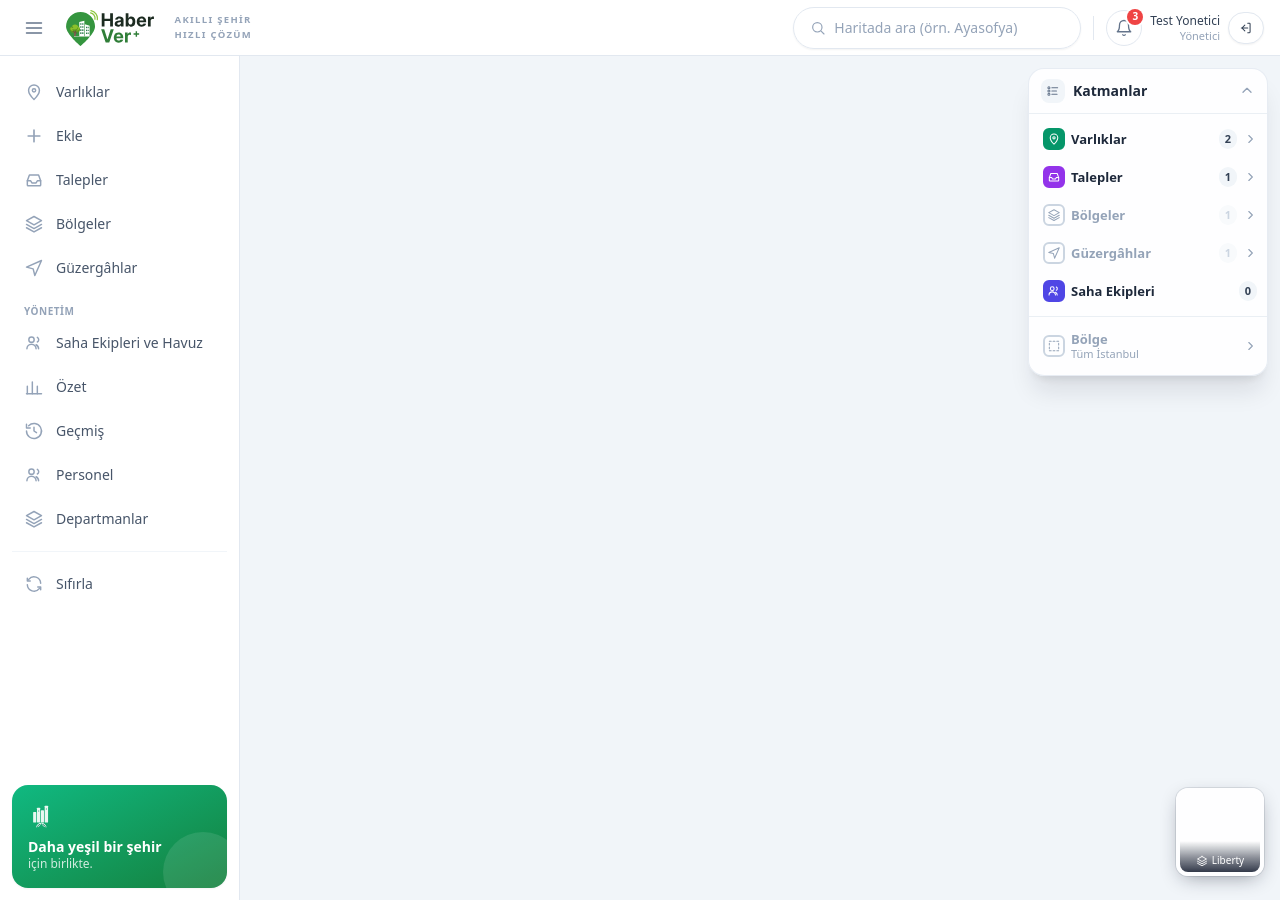
it: App - Bölgeler ve Güzergâhlar AYRI panellerdir › siralama secimi sekme basina HATIRLANIR, sizmaz
Click the button "Bölgeler". click: (120, 224)
box: [12,204,227,244]
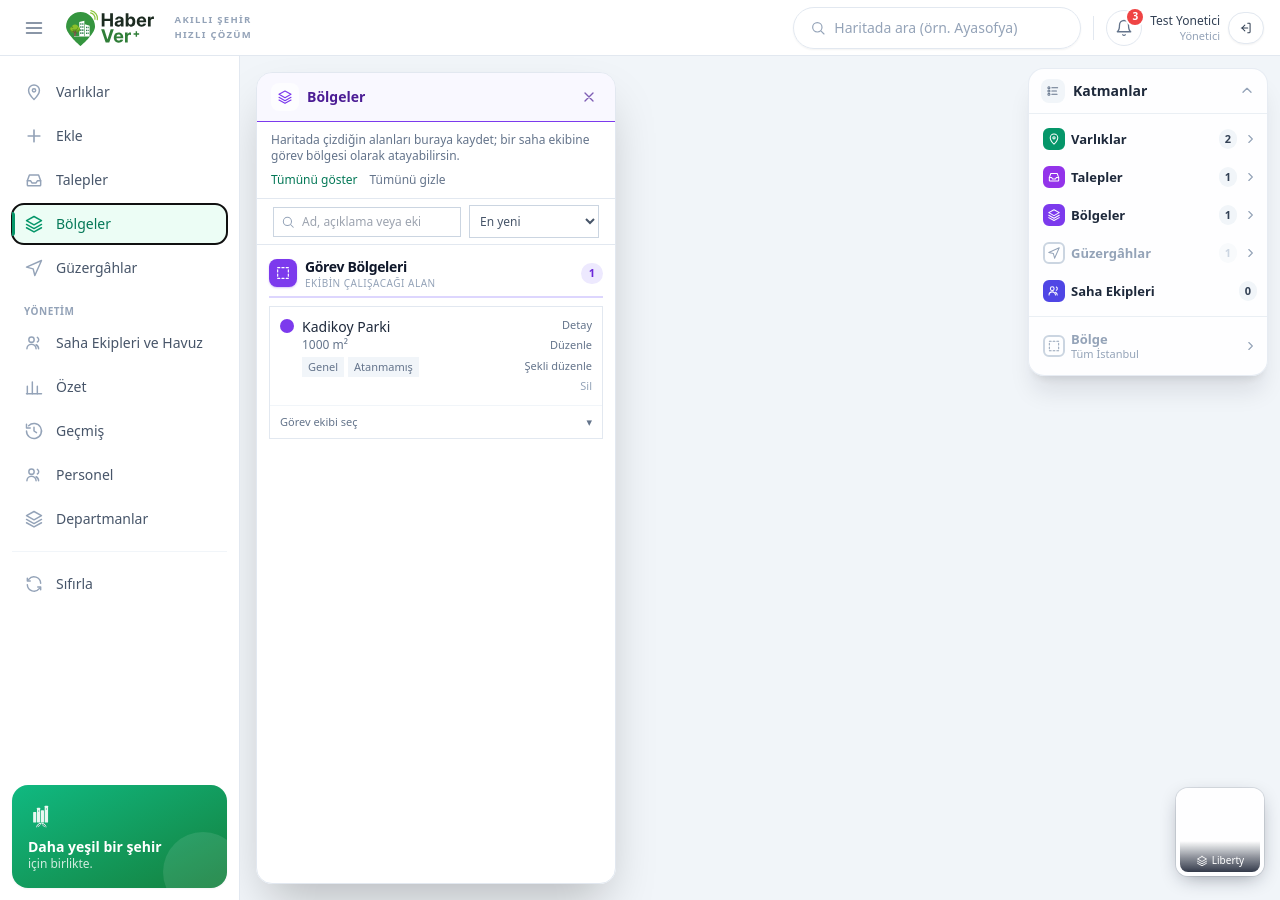
Expected: the text "Kadikoy Parki" is shown, [302,316,390,336]
Select "Ada göre (A-Z)" in the dropdown named "Sıralama". click: (534, 222)
box: [469,205,599,238]
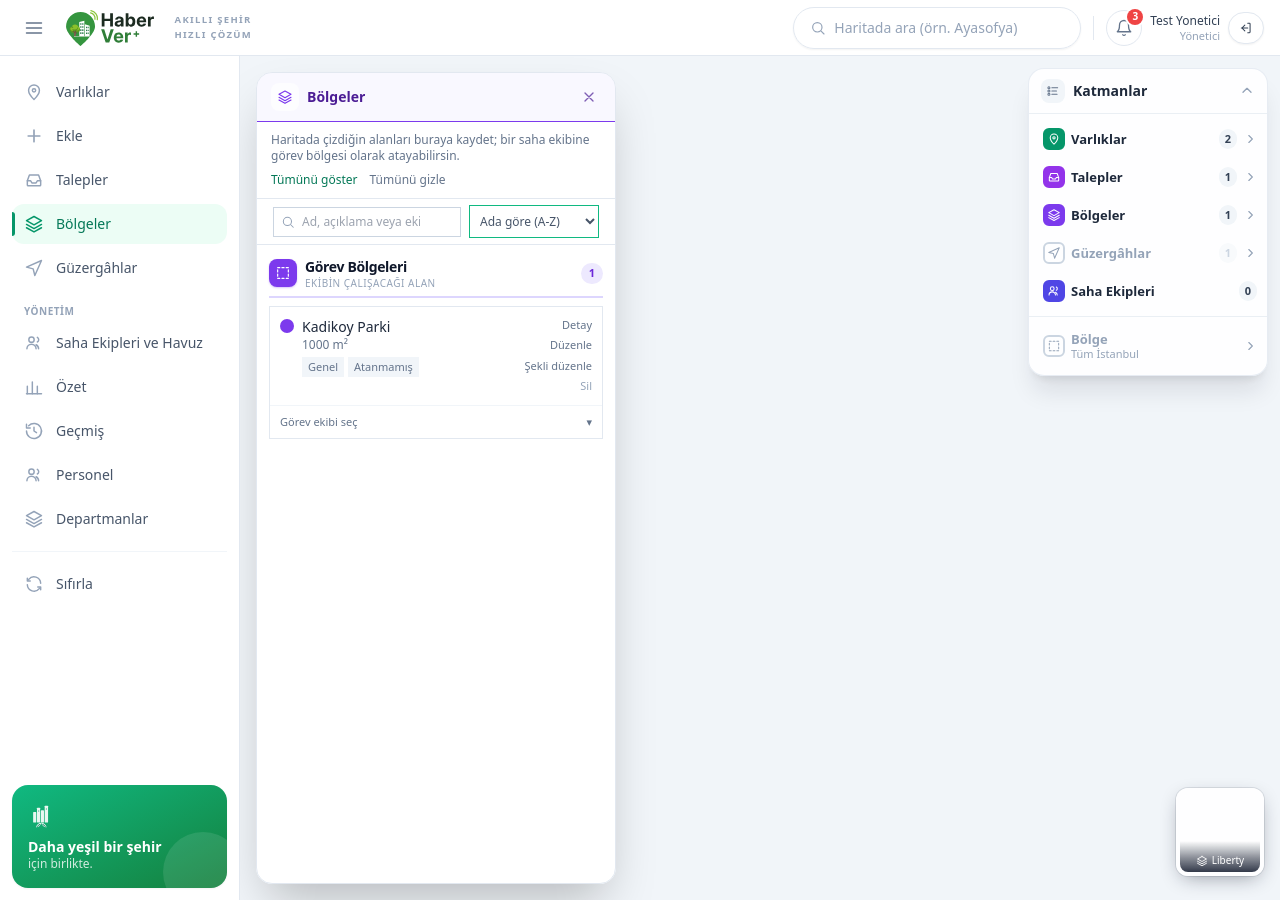
Click the button "Güzergâhlar". click: (120, 268)
box: [12,248,227,288]
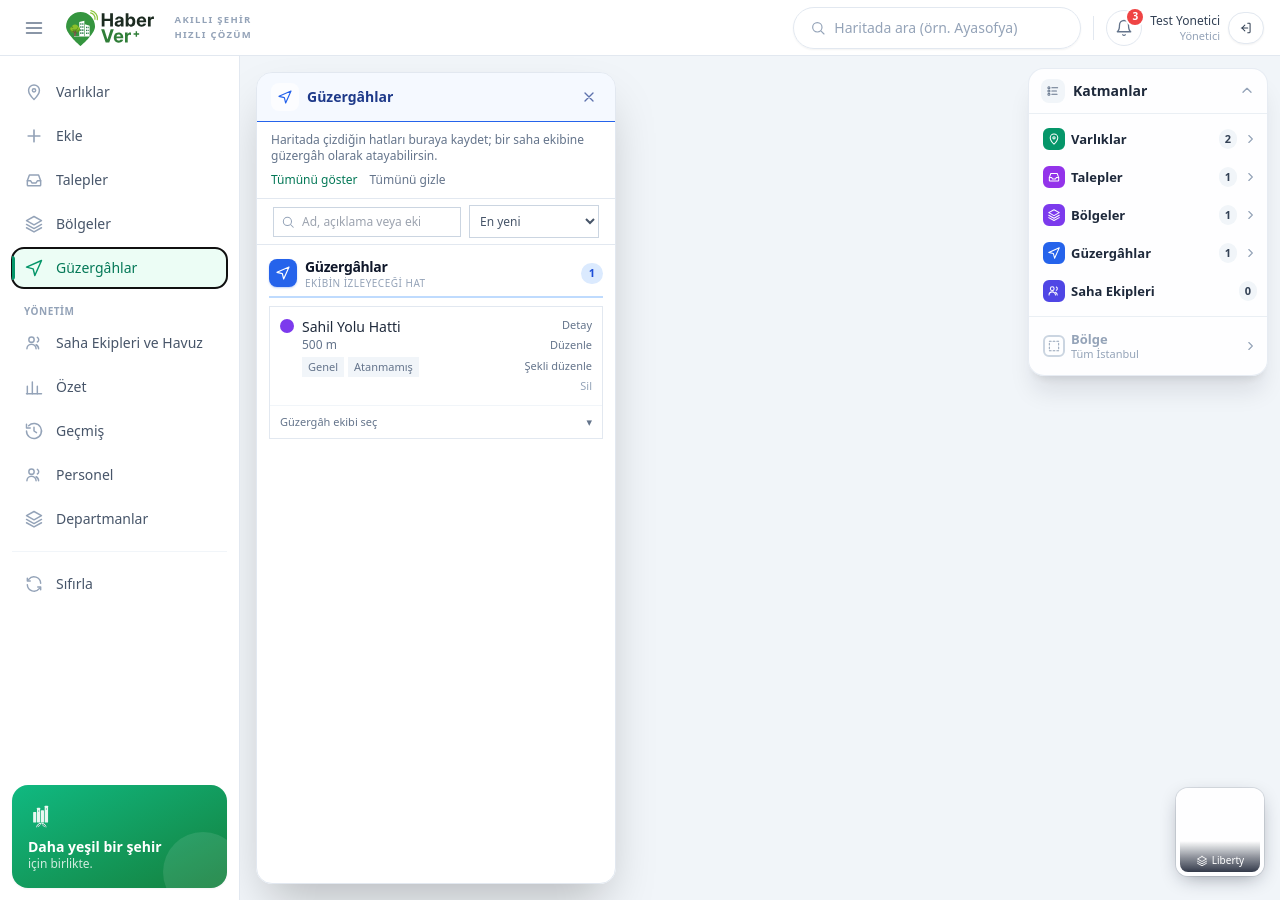
Expected: the text "Sahil Yolu Hatti" is shown, [302,316,401,336]
Select "Önce atanmamış" in the dropdown named "Sıralama". click: (534, 222)
box: [469,205,599,238]
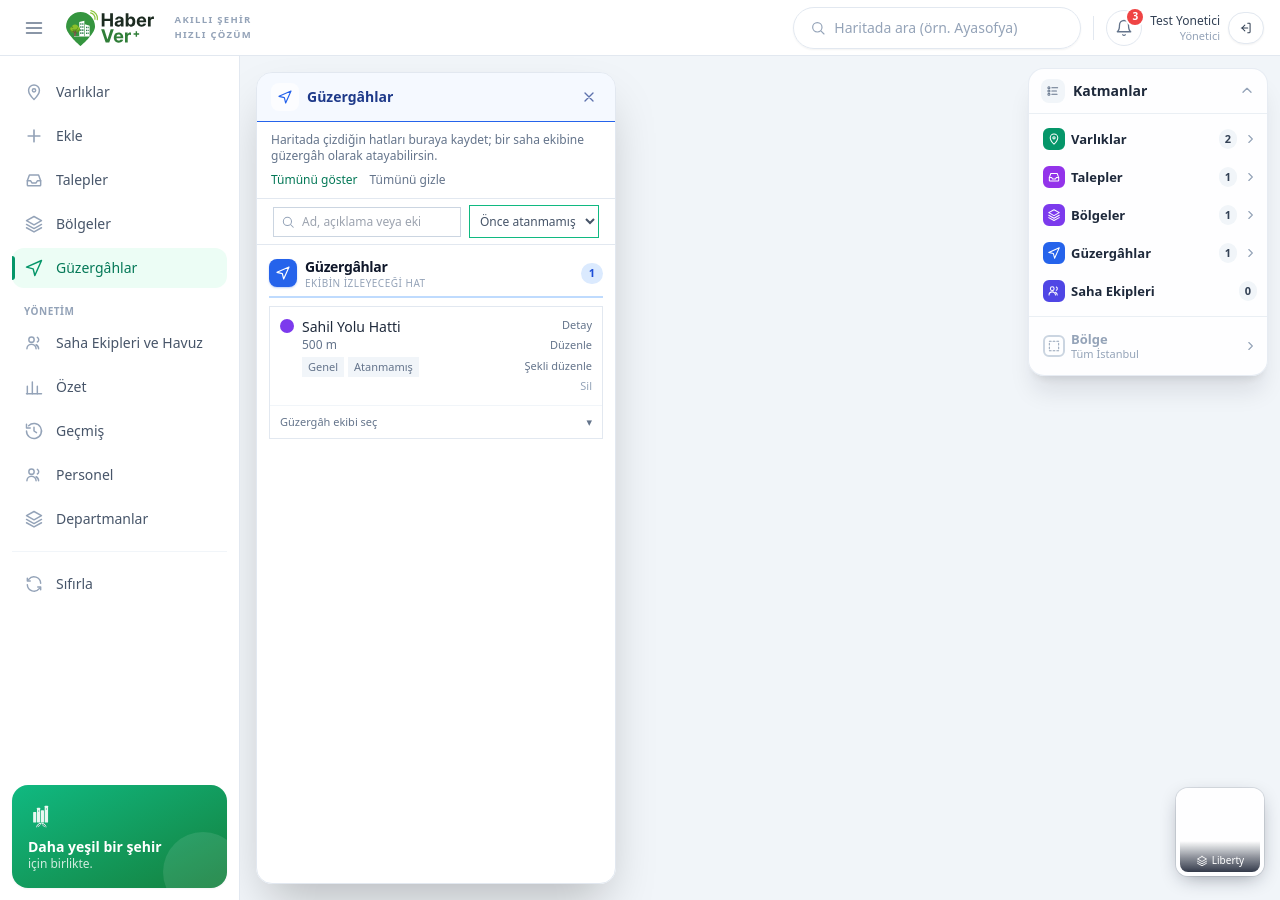
Click the button "Bölgeler". click: (120, 224)
box: [12,204,227,244]
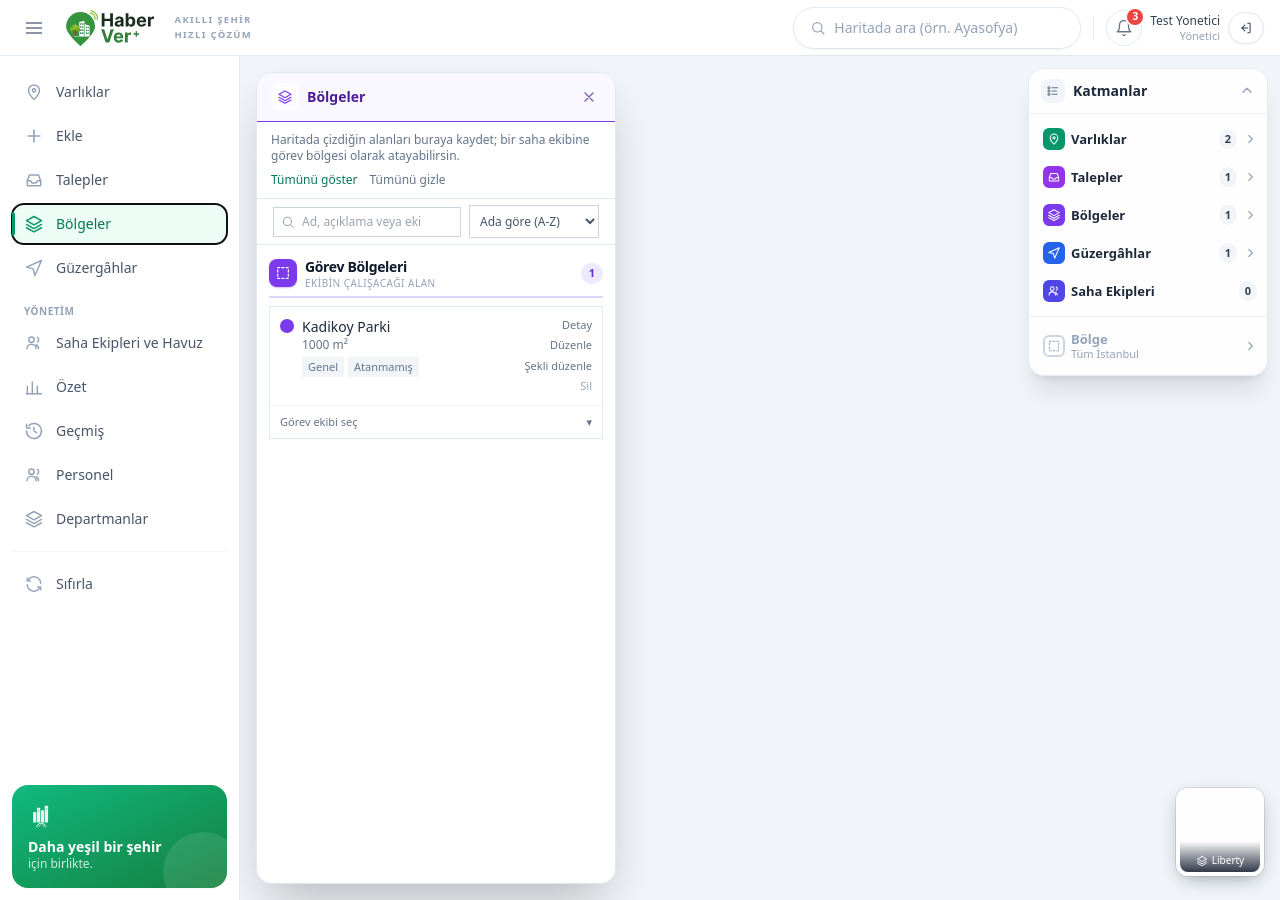
Expected: the text "Kadikoy Parki" is shown, [302,316,390,336]
Click the button "Güzergâhlar". click: (120, 268)
box: [12,248,227,288]
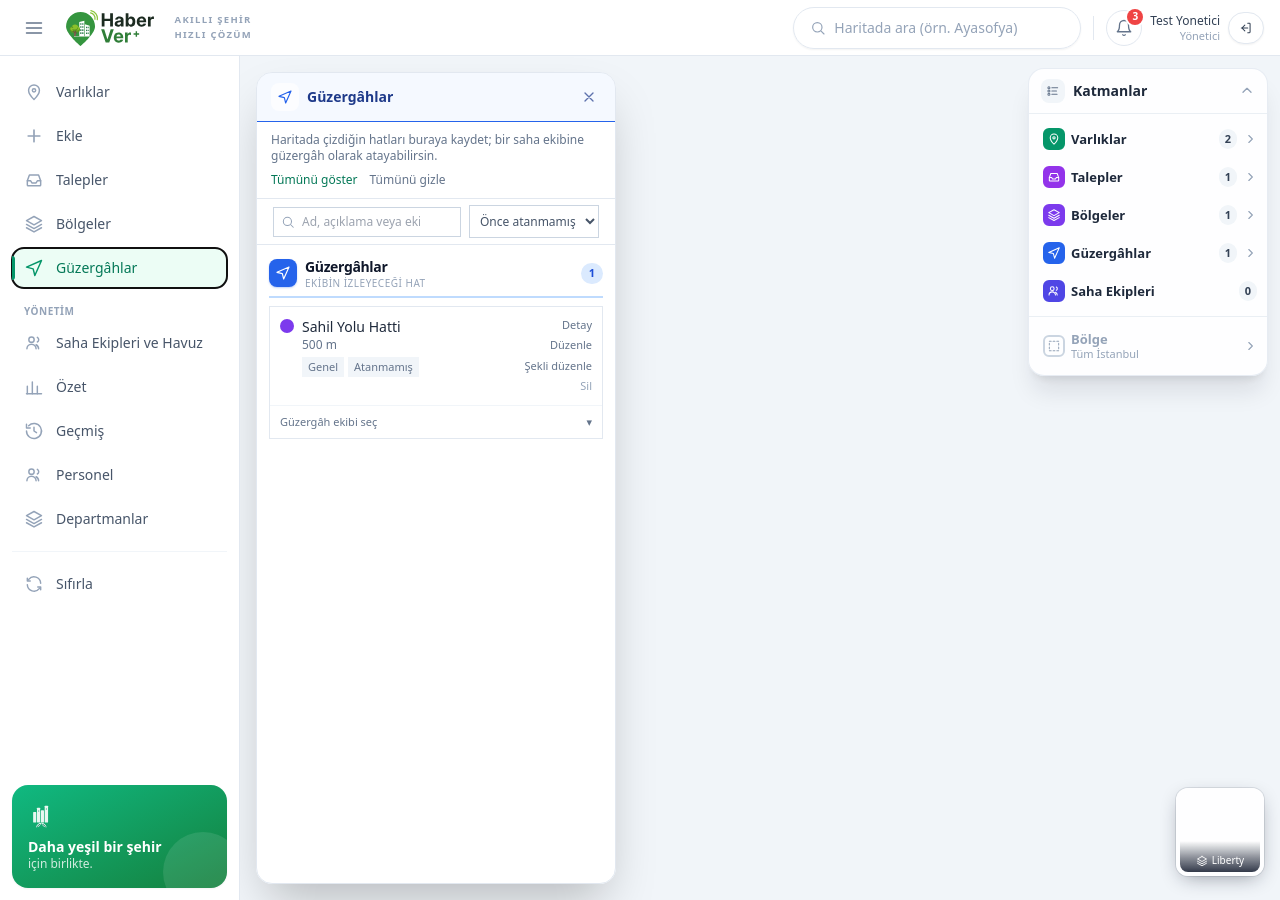
Expected: the text "Sahil Yolu Hatti" is shown, [302,316,401,336]
